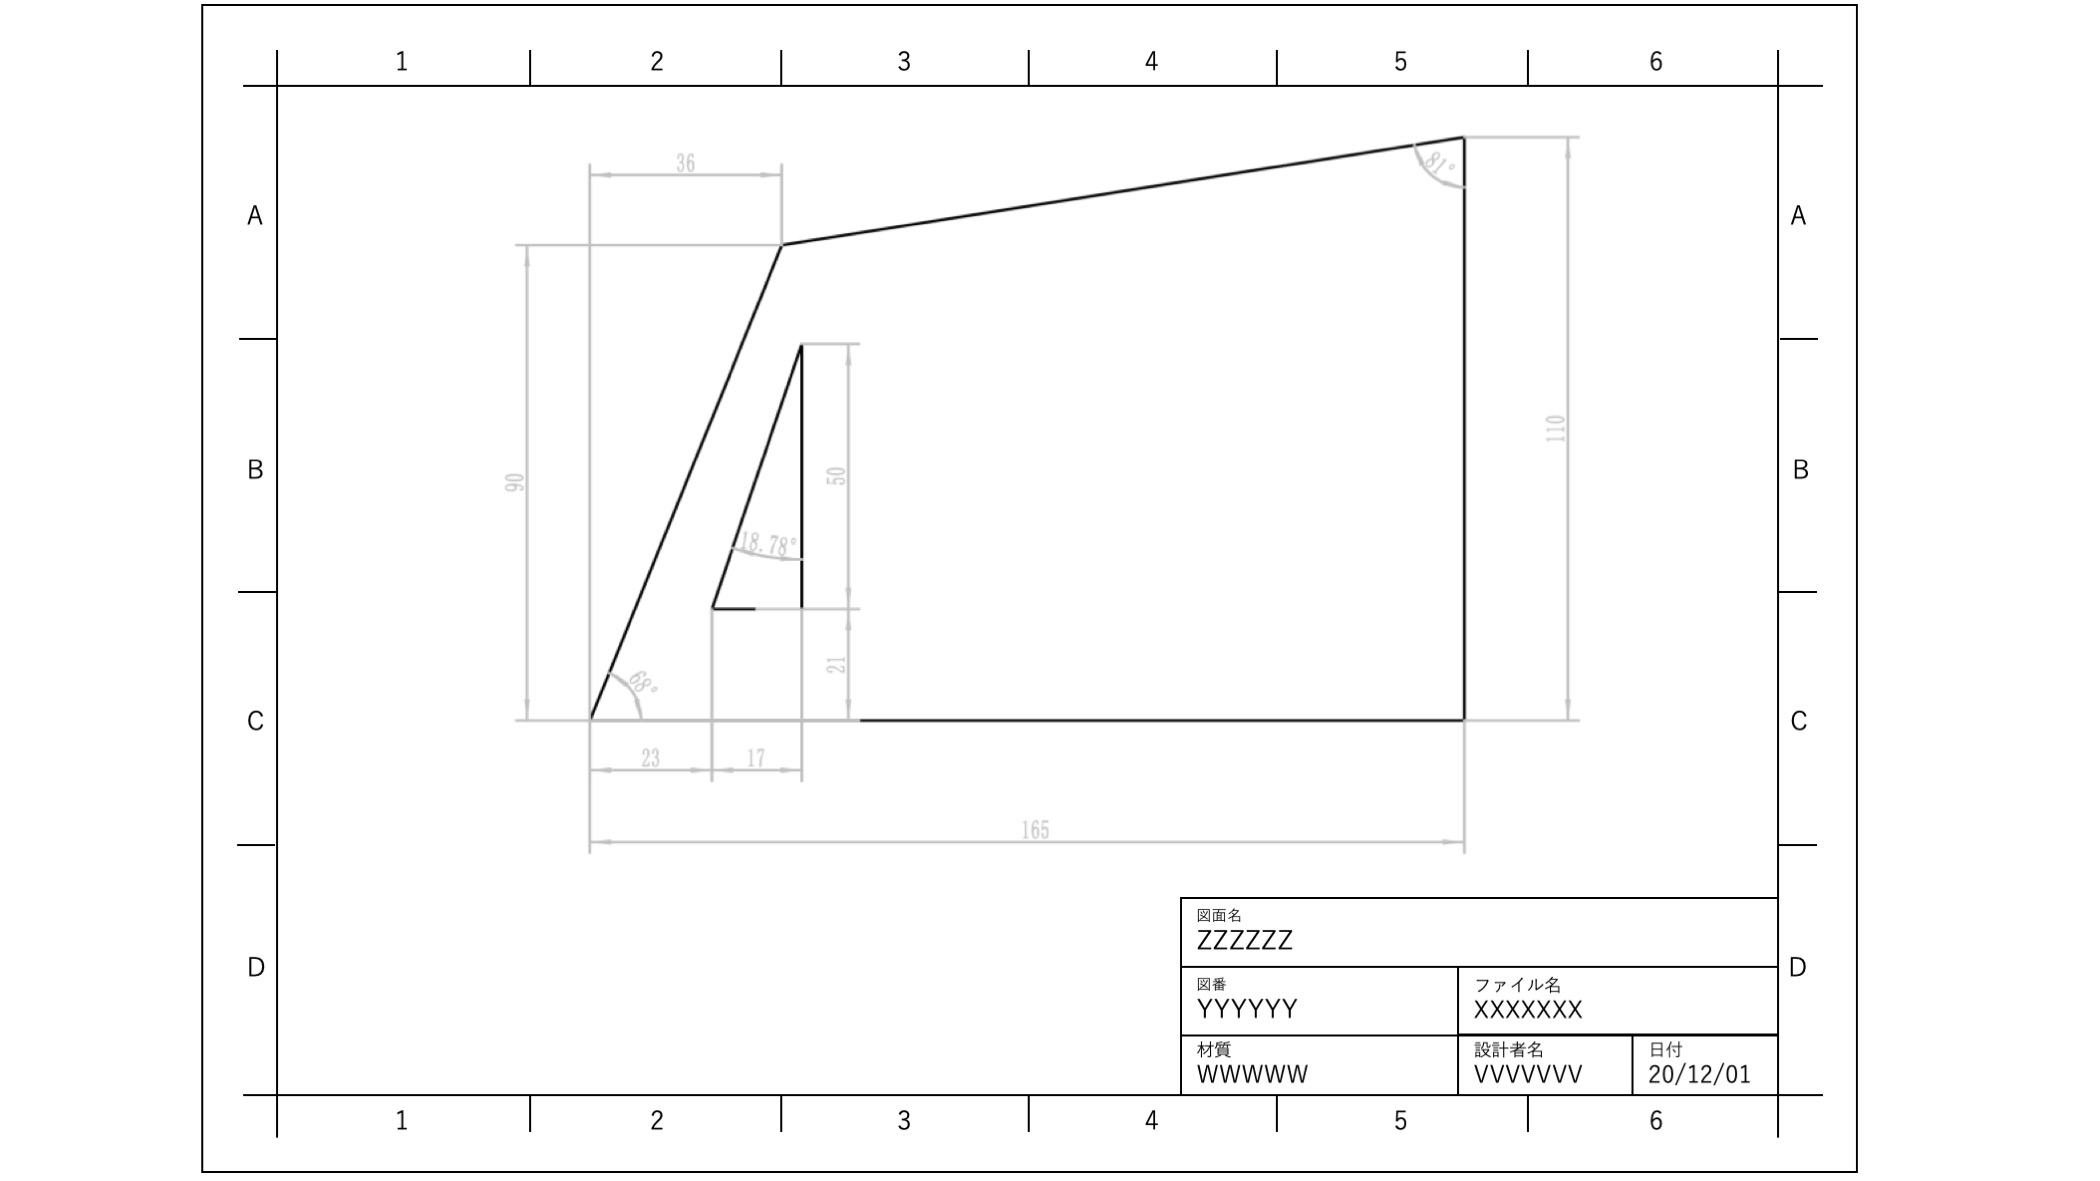triangle: (702, 332, 808, 624)
